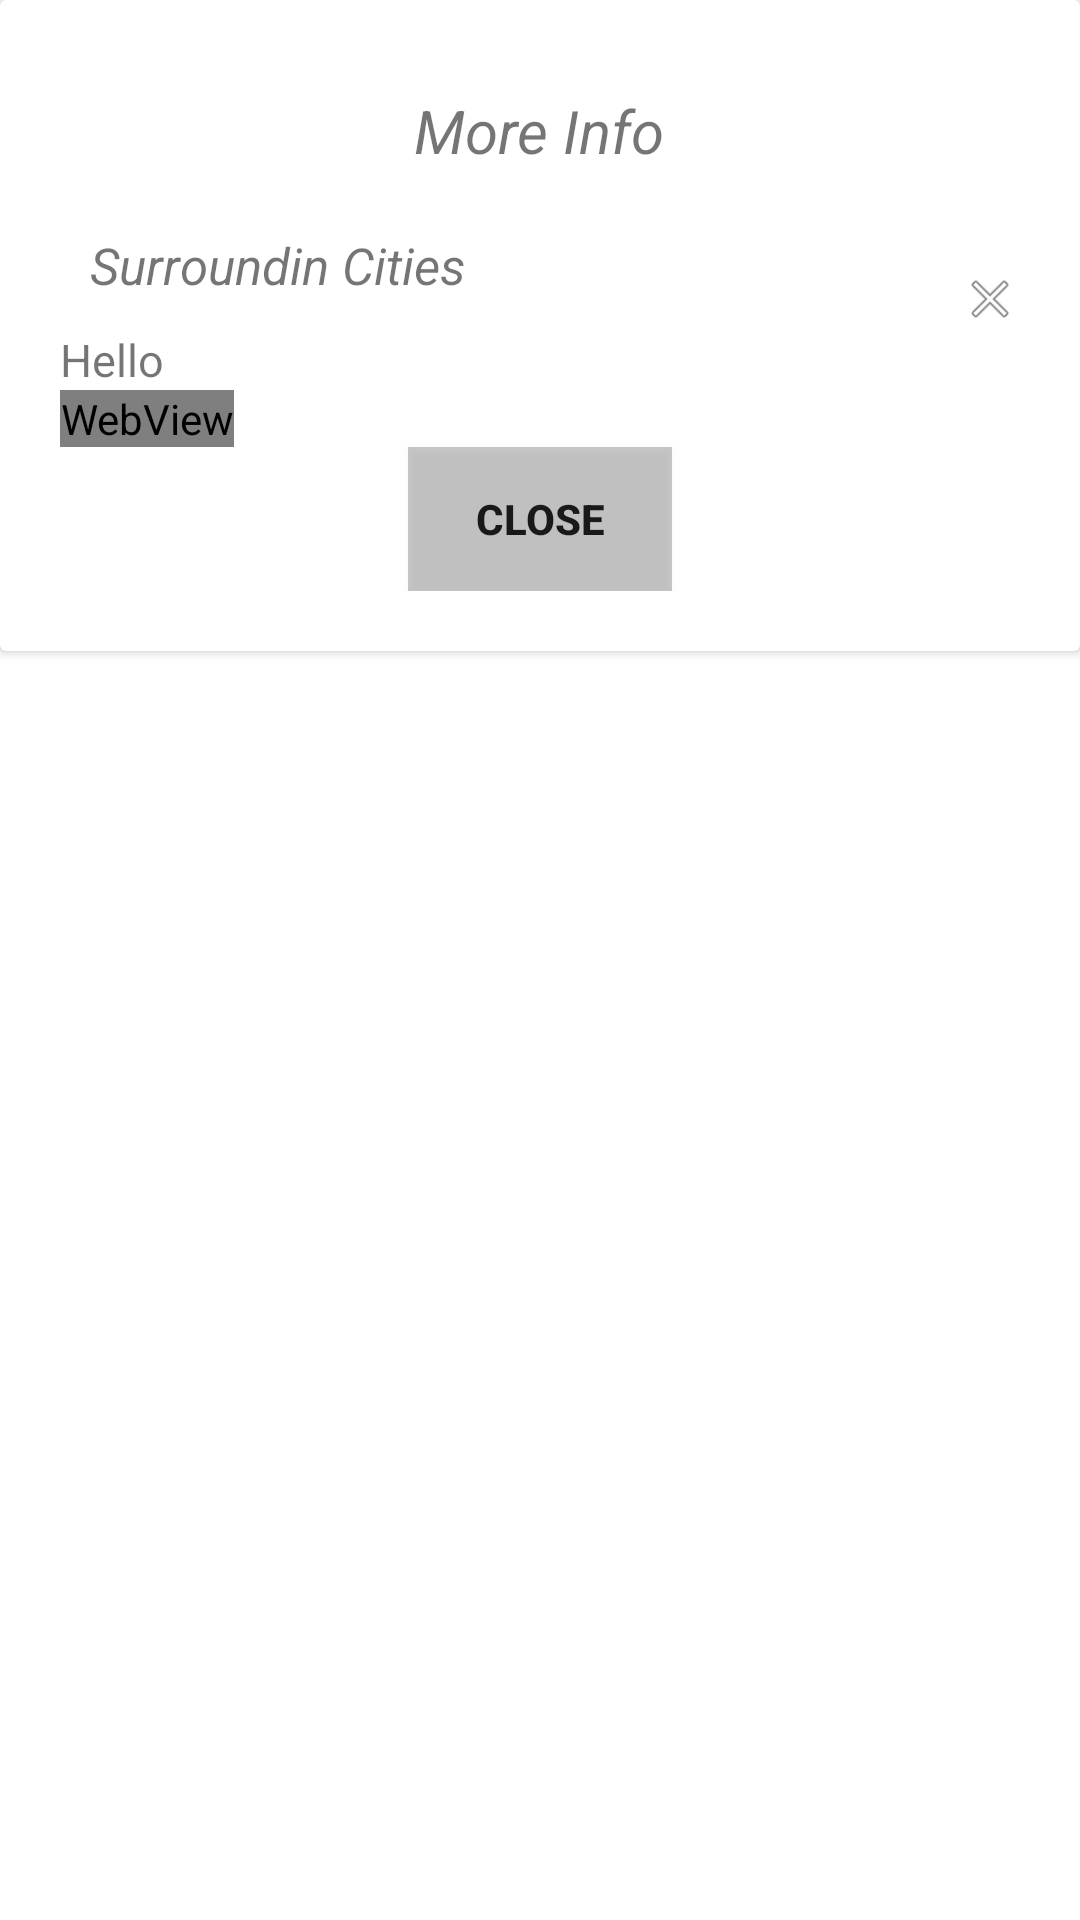

Screen size 1080px×1920px. Icon name, then its center in pixels as (x=x, y=y):
close clear cancel: (x=990, y=299)
